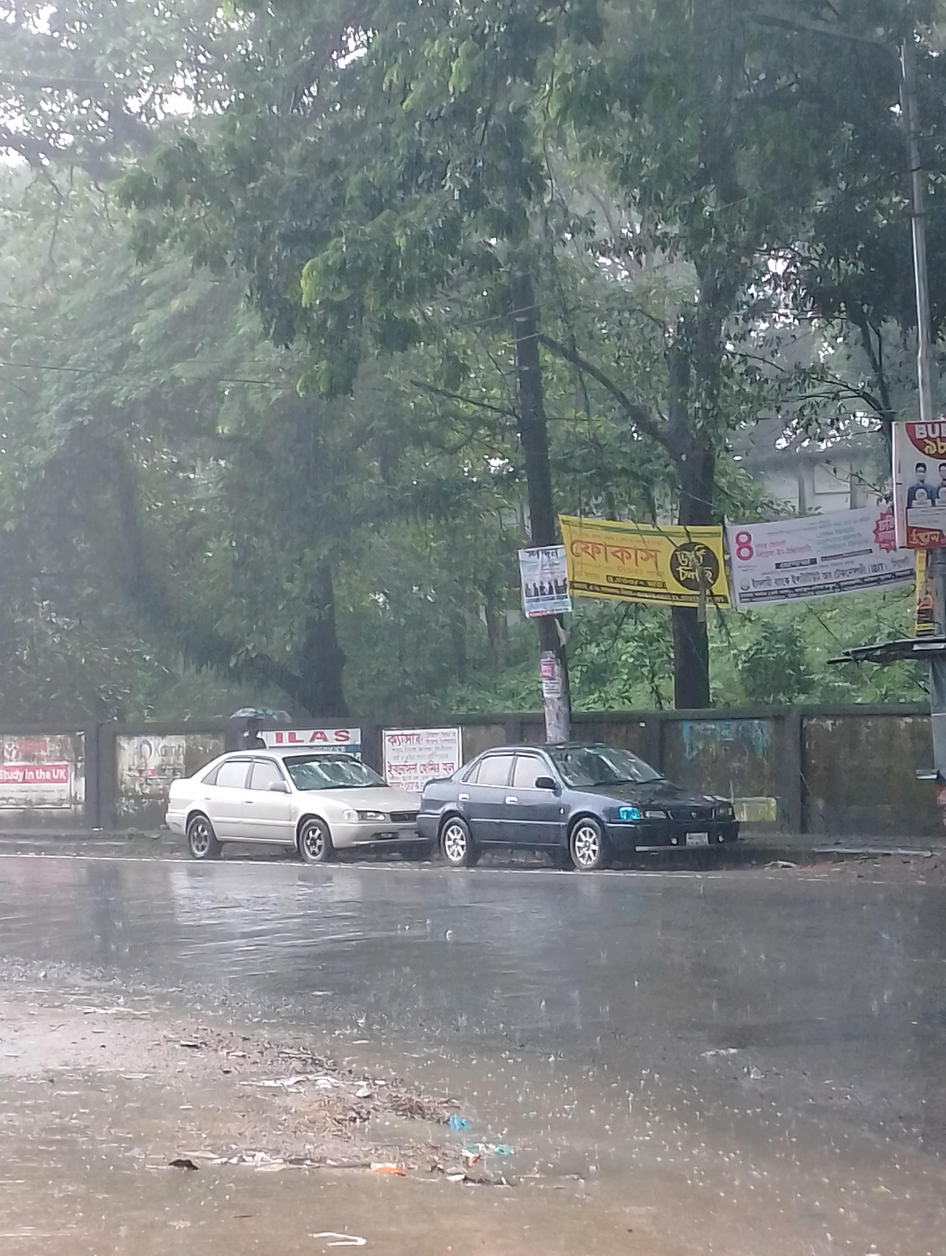Car: (413, 719, 756, 893), (154, 722, 425, 880)
